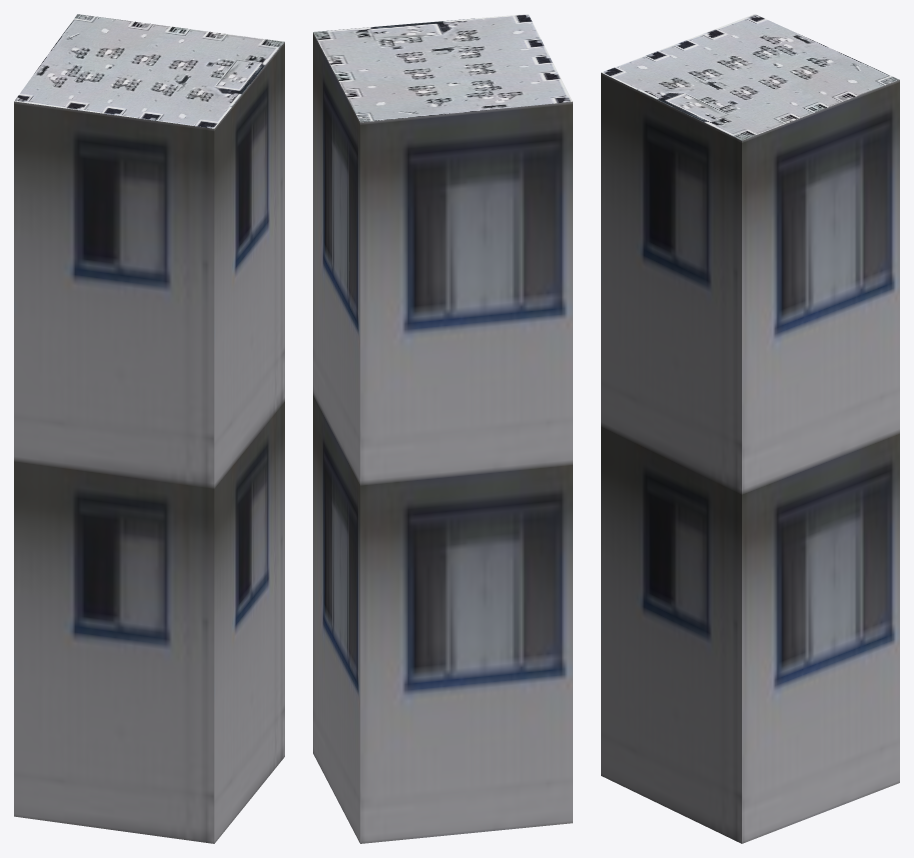
Rendered from ResTex__82.fbx.
The picture shows the model from 3 angles, left to right: view 1: azimuth 30°, elevation 25°; view 2: azimuth 150°, elevation 25°; view 3: azimuth 270°, elevation 25°; orthographic projection. The views are drawn at different scales.
Parts seen in each view (by area): view 1: CityEngineMaterial_9_m, CityEngineMaterial_m; view 2: CityEngineMaterial_9_m, CityEngineMaterial_m; view 3: CityEngineMaterial_9_m, CityEngineMaterial_m.
Boxes of the visible parts, <box> form: CityEngineMaterial_9_m: <box>14,42,284,843</box>; CityEngineMaterial_m: <box>14,14,284,128</box>; CityEngineMaterial_9_m: <box>313,32,572,843</box>; CityEngineMaterial_m: <box>313,14,572,122</box>; CityEngineMaterial_9_m: <box>601,72,899,843</box>; CityEngineMaterial_m: <box>601,14,899,140</box>.
Size of the model in its own units: 2.32 by 6 by 2.31.
Materials: 2 (2 with a texture image).
